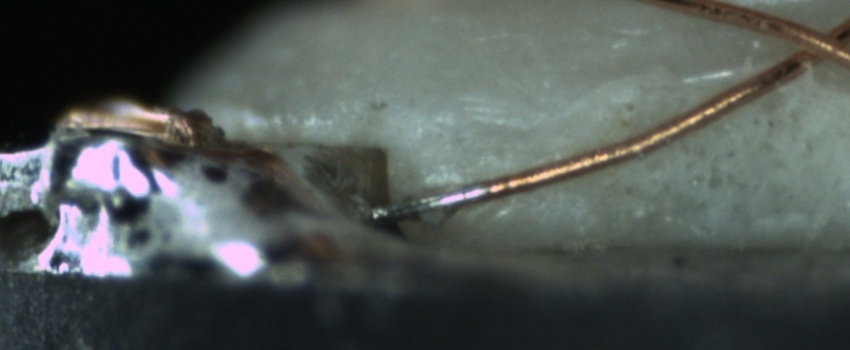CL: (771, 11, 848, 77)
TE: (54, 93, 234, 149)
TS: (361, 179, 488, 224)
